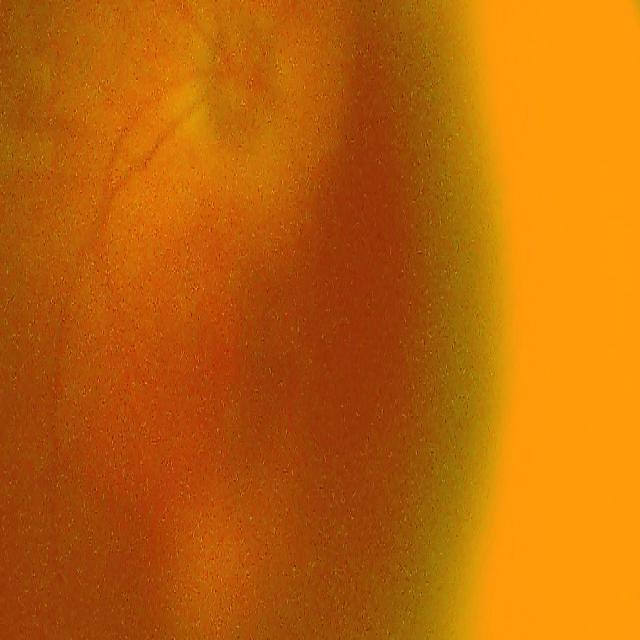optic-nerve: (176, 0, 301, 180)
